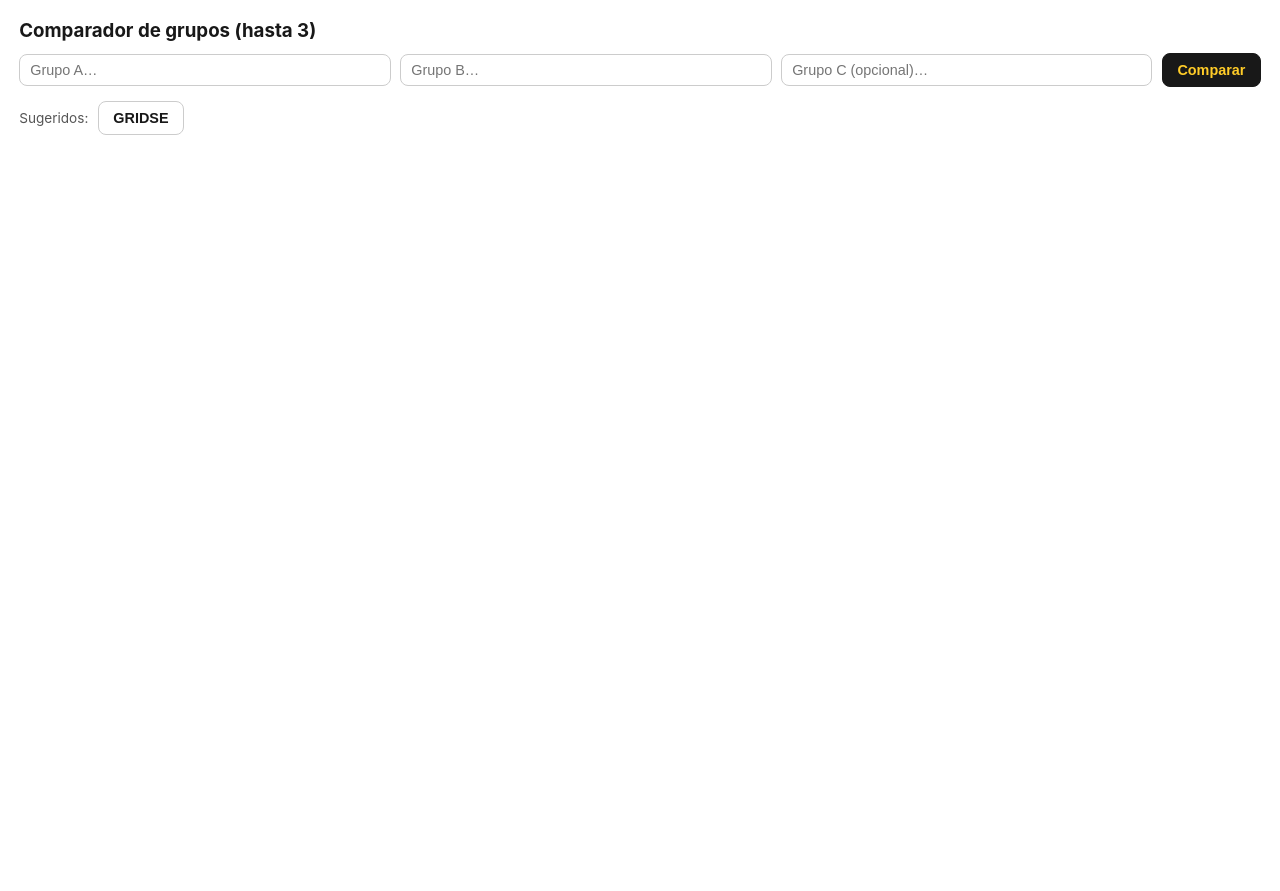
Scenario: comparador › Limpiar sigue vaciando todo de una vez
The image size is (1280, 891).
Expected: the heading "Comparador de grupos (hasta 3)" is shown, [19,19,316,42]
Type "GRIDSE" into the field with placeholder "Grupo A…".
click(205, 70); type("GRIDSE")  # box [19,54,391,86]
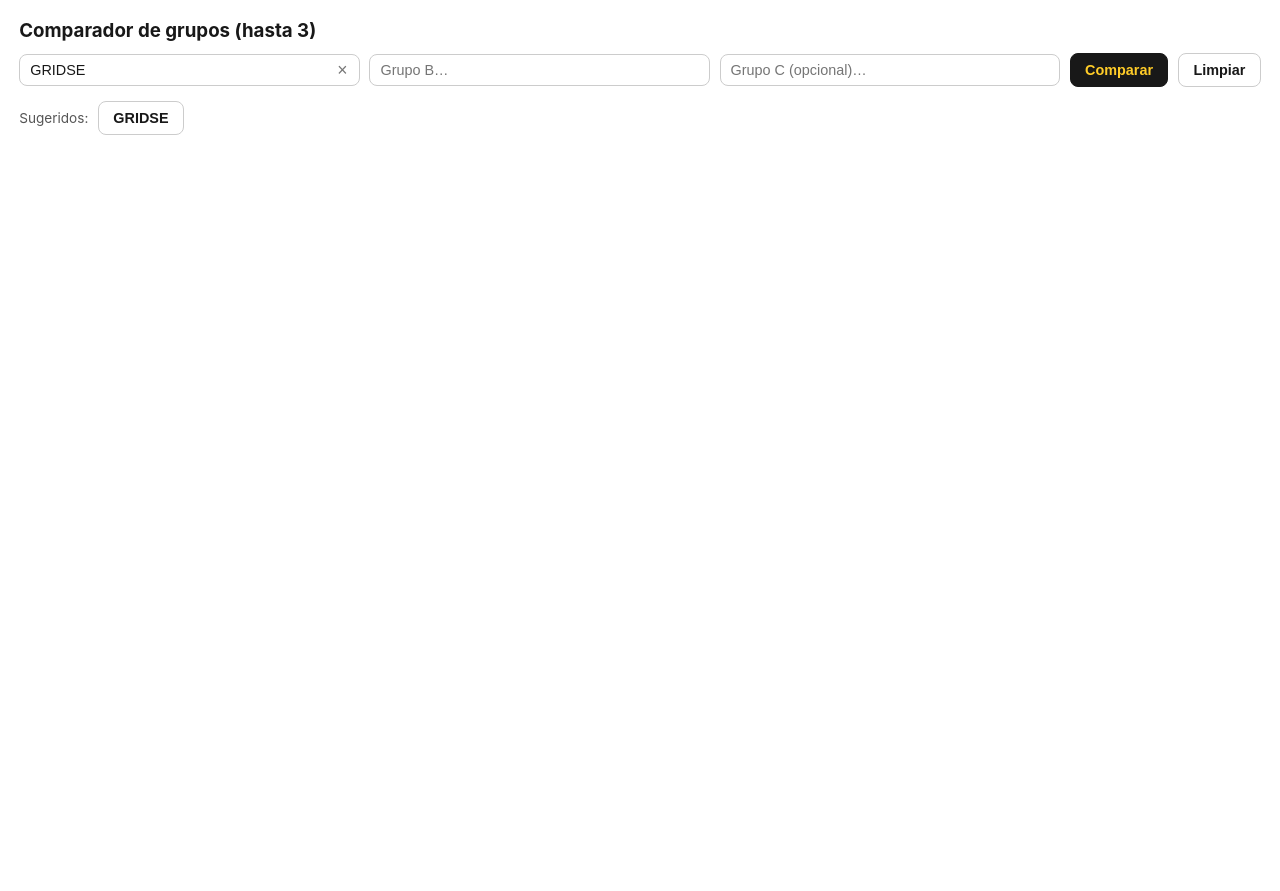
Type "OTRO" into the field with placeholder "Grupo B…".
click(540, 70); type("OTRO")  # box [369,54,710,86]
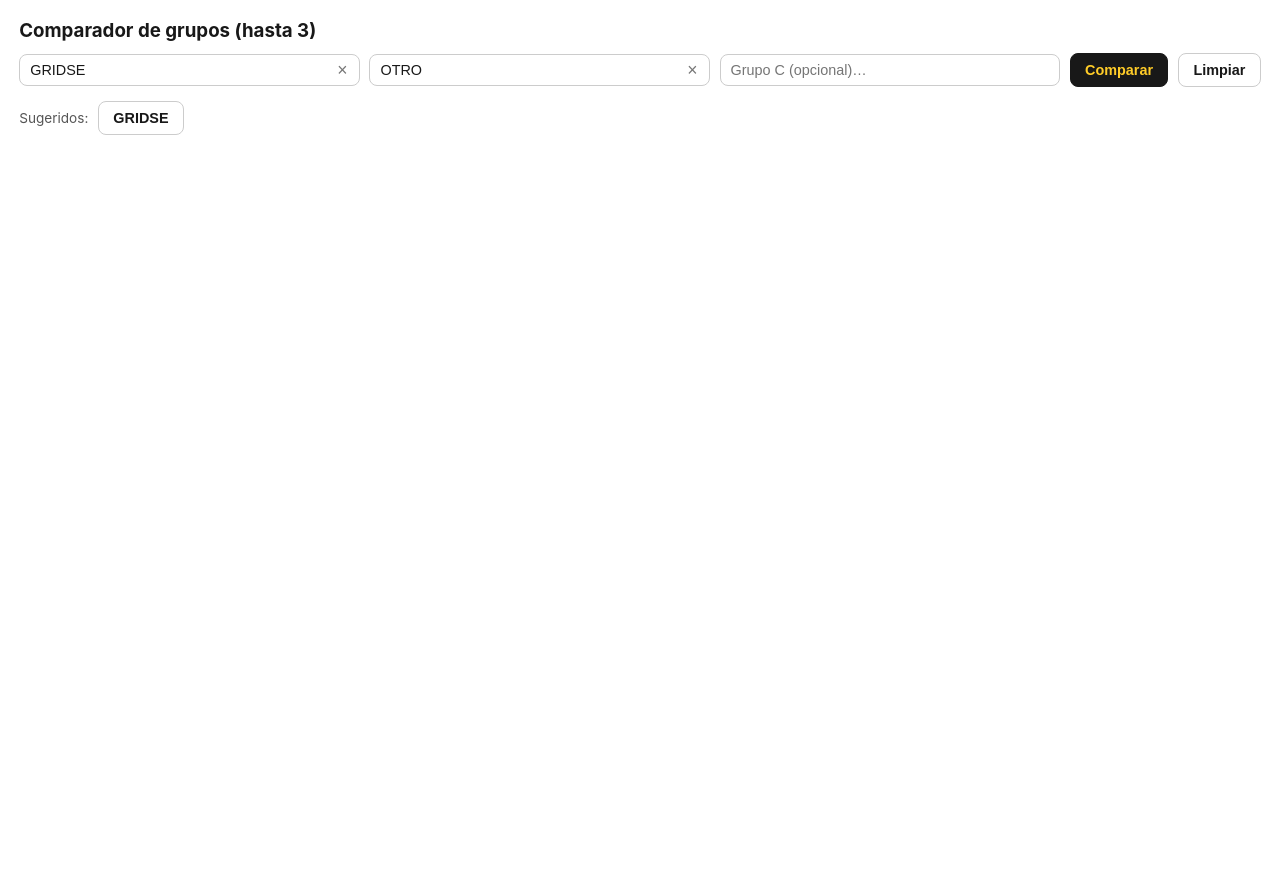
Click the button "Comparar".
click(1119, 70)  # box [1070,53,1168,87]
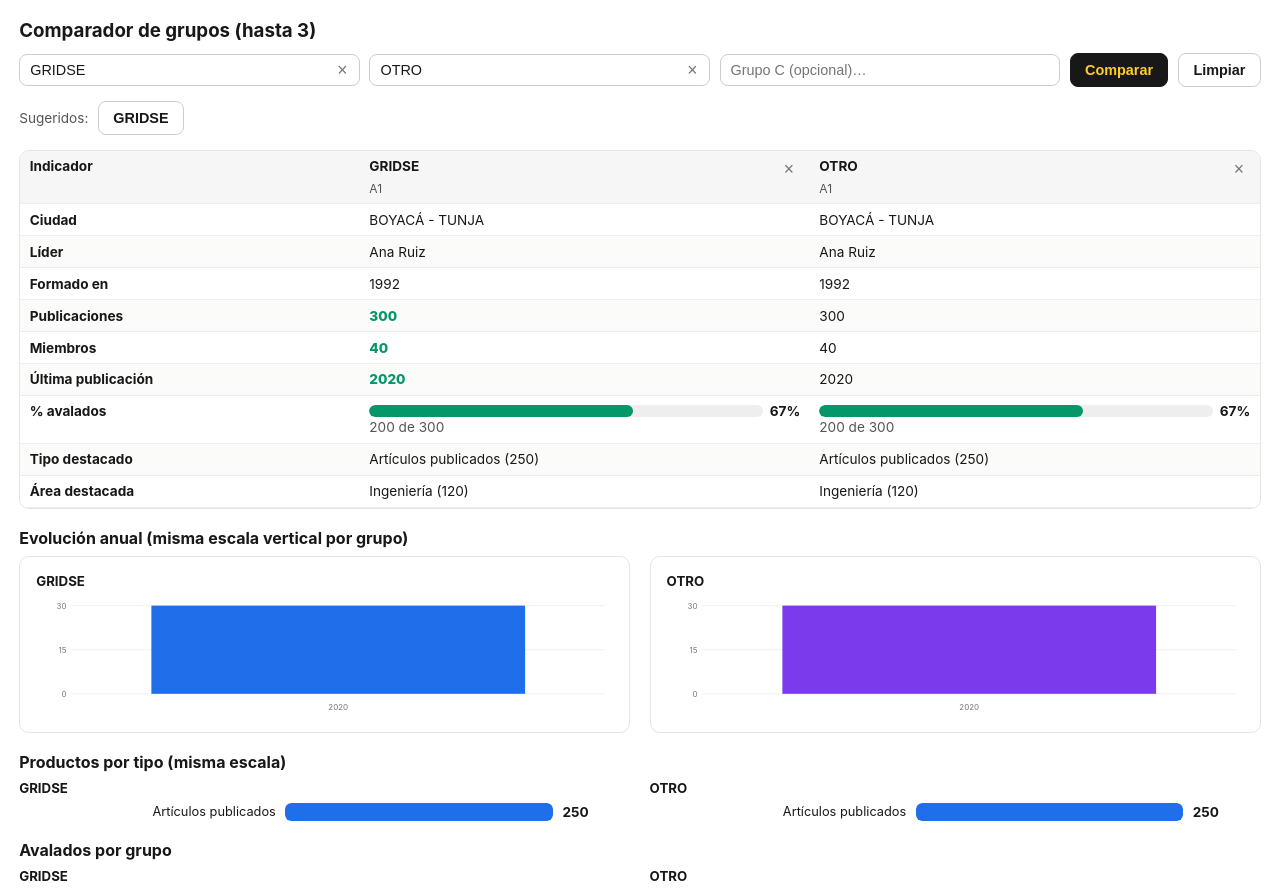
Expected: the column heading "Indicador" is shown, [20,150,360,204]
Click the button "Limpiar".
click(1220, 70)  # box [1178,53,1261,87]
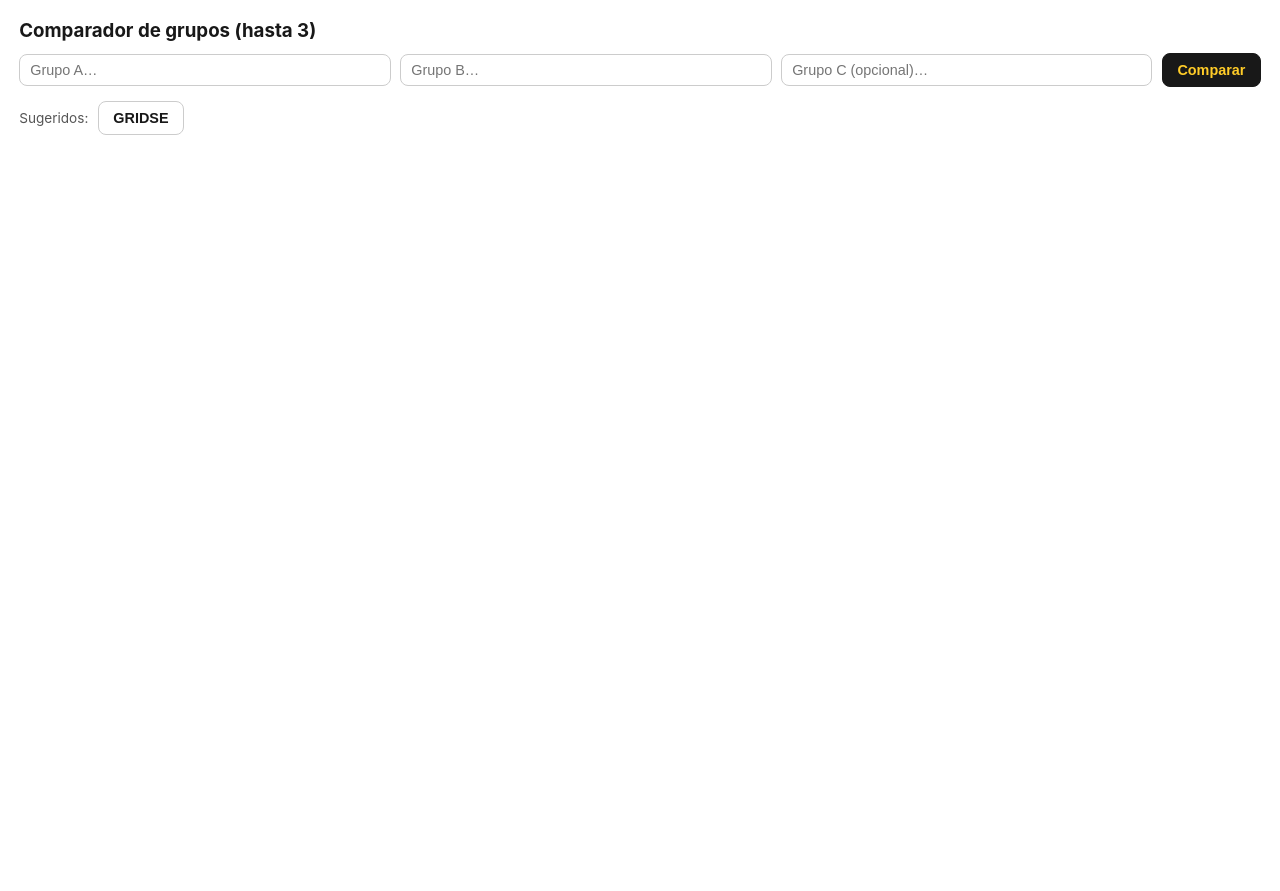
Expected: the column heading "Indicador" is gone
Expected: the field with placeholder "Grupo A…" is empty, [19,54,391,86]
Expected: the field with placeholder "Grupo B…" is empty, [400,54,772,86]
